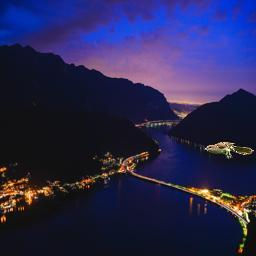Cuckoo: (204, 142, 254, 159)
